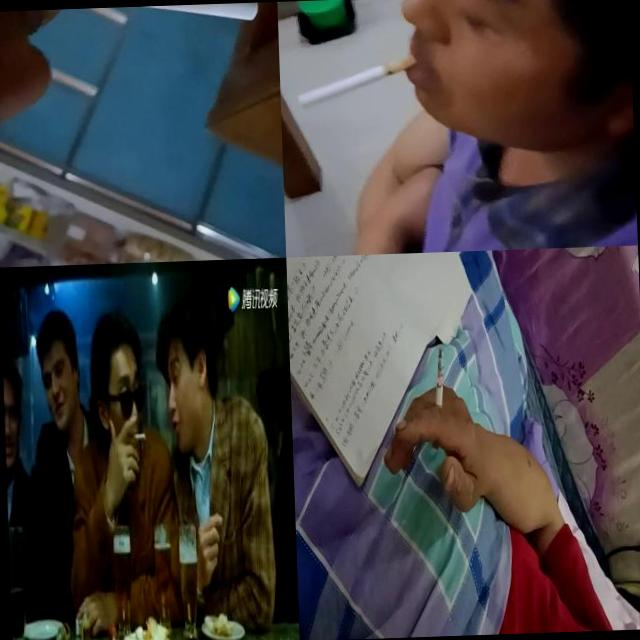smoke: (297, 54, 418, 108), (63, 2, 260, 28), (428, 346, 448, 450), (133, 430, 146, 443)
